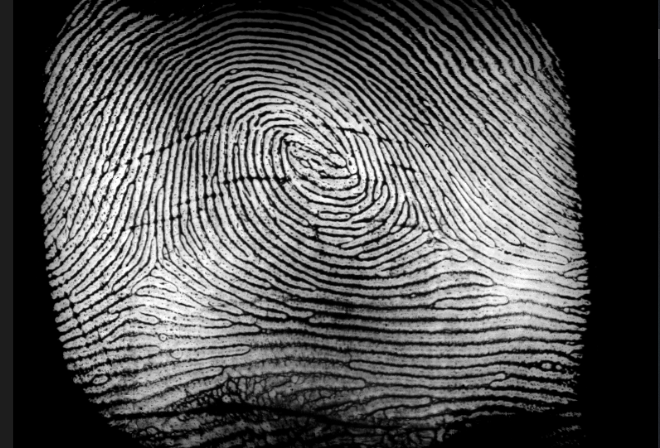deltas: (390, 198, 463, 262), (123, 236, 189, 295)
nucleo: (277, 126, 342, 184)
